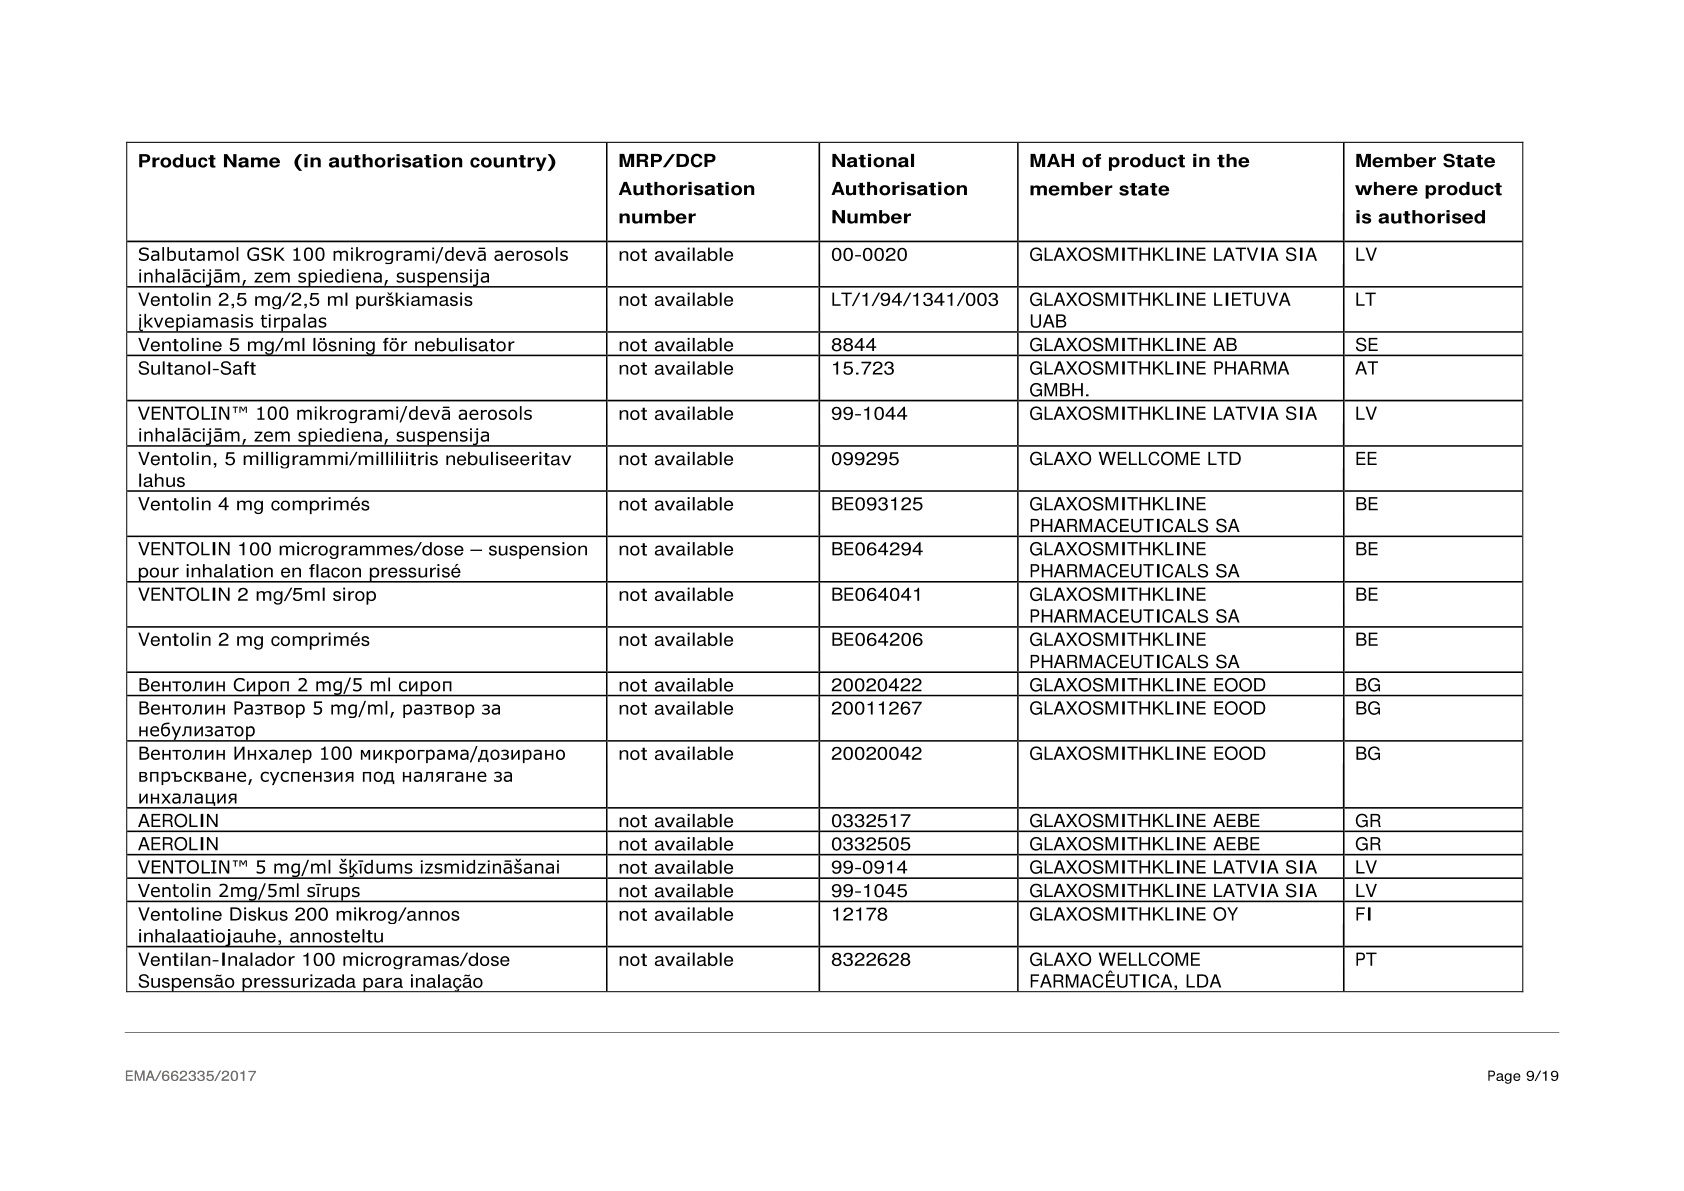full_lined: (125, 140, 1524, 992)
